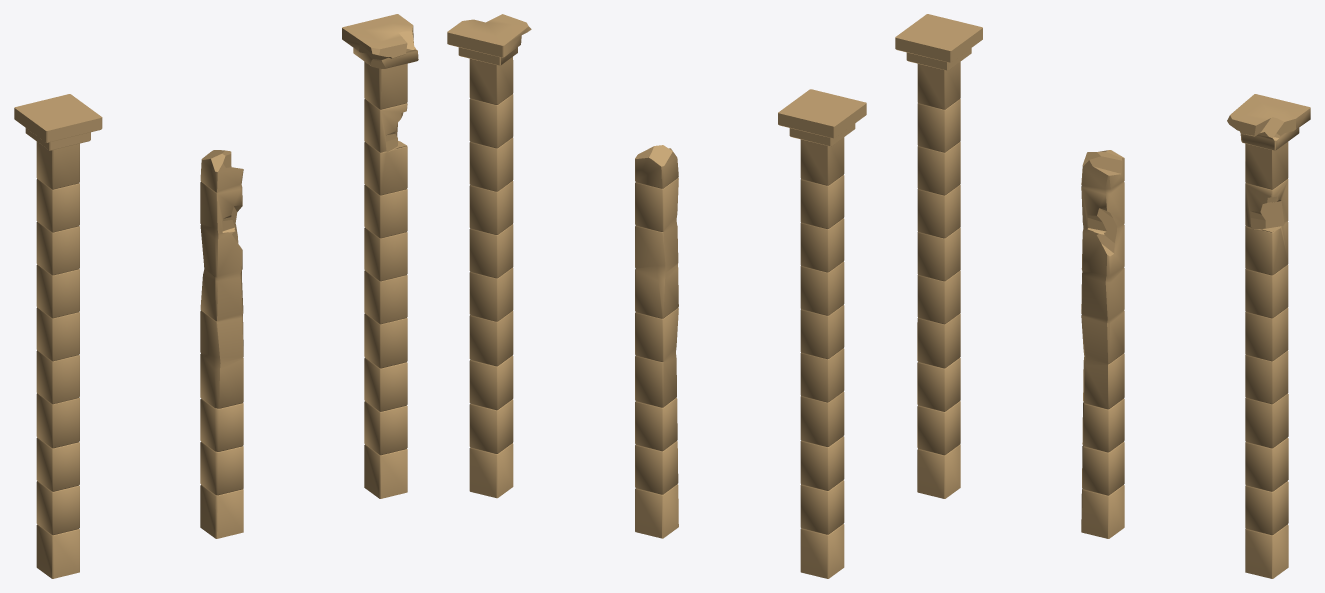
File: 2ndBridge_02_Supports.fbx
3 views of the same model, side by side, from view 1: azimuth 30°, elevation 25°; view 2: azimuth 150°, elevation 25°; view 3: azimuth 330°, elevation 25° (orthographic).
Parts seen in each view (by area): view 1: Support1; view 2: Support1; view 3: Support1.
Part boxes in pixels (box(x1,y1,x2,y2)): Support1: box(14, 14, 418, 578); Support1: box(447, 14, 866, 578); Support1: box(895, 14, 1310, 578).
Bounding box in the file's own units: 4606 × 5242 × 675.
